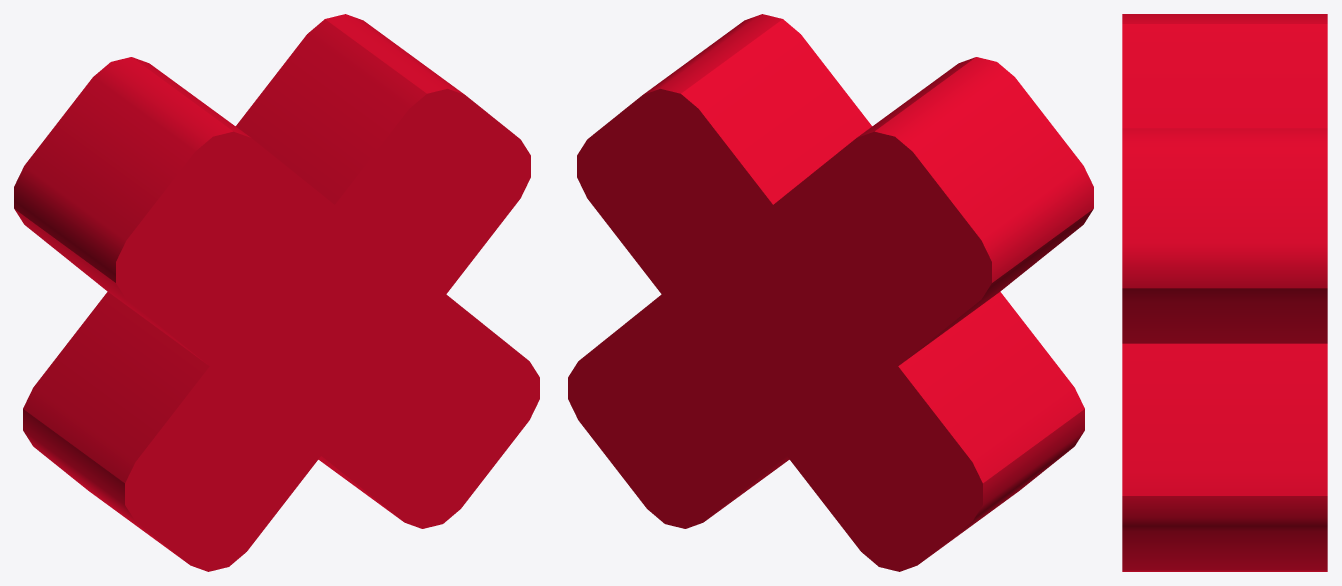
The model's file is negativo.fbx.
3 renders of one model, left to right at view 1: azimuth 30°, elevation 25°; view 2: azimuth 150°, elevation 25°; view 3: azimuth 270°, elevation 25°, orthographic.
Parts seen in each view (by area): view 1: Cube.018; view 2: Cube.018; view 3: Cube.018.
Boxes of the visible parts, bbox=[...] form: Cube.018: bbox=[14, 14, 539, 571]; Cube.018: bbox=[568, 14, 1093, 571]; Cube.018: bbox=[1122, 14, 1327, 571].
Size of the model in its own units: 479 by 479 by 200.
